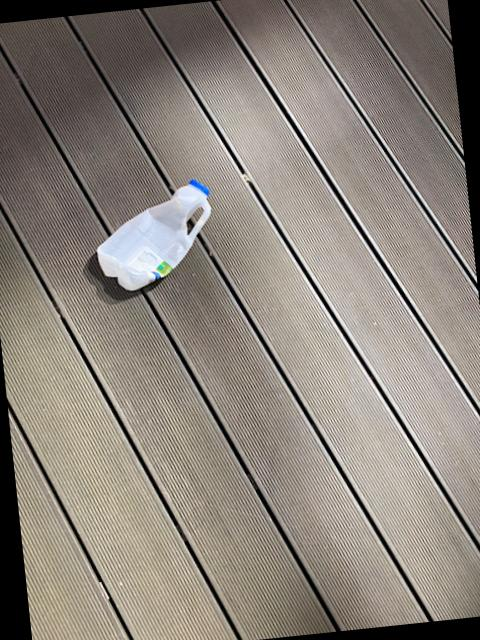plastic: (96, 179, 209, 289)
